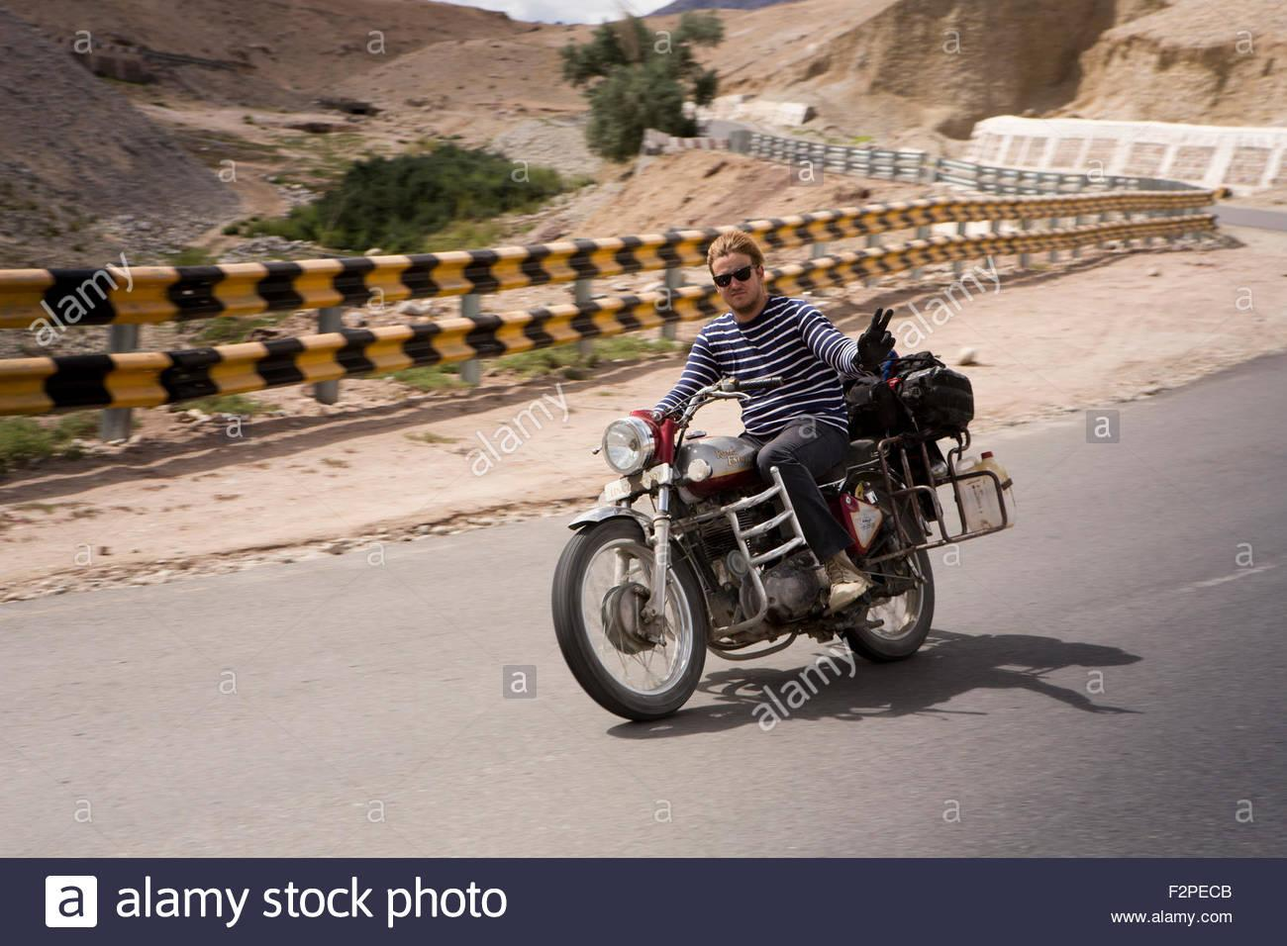nohelmet: (688, 211, 805, 329)
